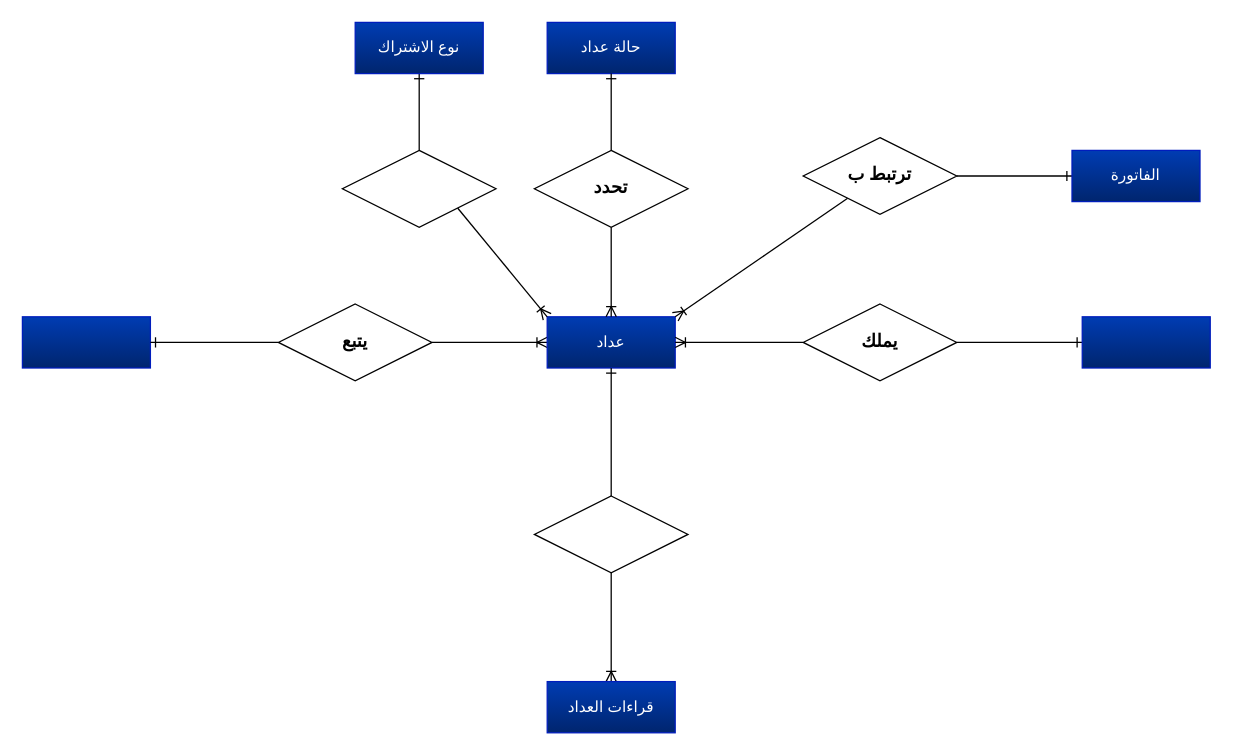
Image size: 1233x755. Some labels were removed from this diagram. The centre of each missing label's shape, as x and y in pixels:
المشترك: the point at 1145,342
تسجل: the point at 610,534
مربع: the point at 85,342
يعرف: the point at 418,188
